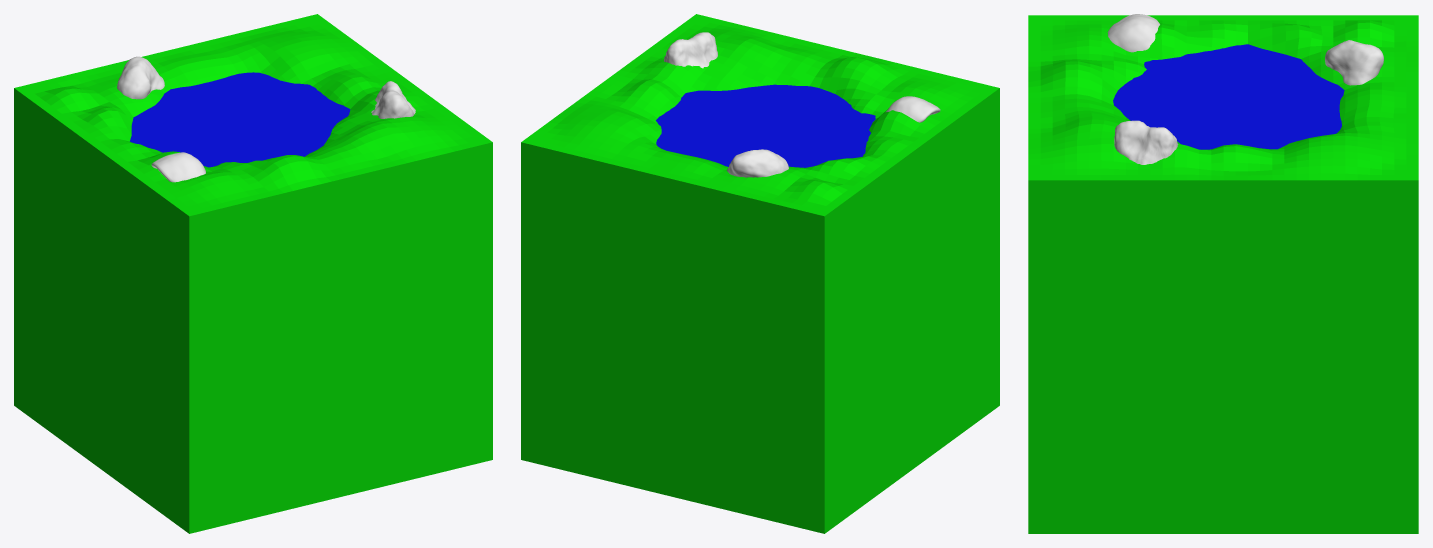
File: Grassblock3.fbx
3 renders of one model, left to right at view 1: azimuth 30°, elevation 25°; view 2: azimuth 150°, elevation 25°; view 3: azimuth 270°, elevation 25°, orthographic. The views are drawn at different scales.
Visible parts, largest first — view 1: Cube, Plane, rock.002, rock.001, rock; view 2: Cube, Plane, rock, rock.002, rock.001; view 3: Cube, Plane, rock, rock.002, rock.001.
Boxes of the visible parts, box(x1,y1,x2,y2) form: Cube: box(14, 14, 492, 533); Plane: box(130, 72, 350, 167); rock.002: box(117, 56, 164, 99); rock.001: box(151, 152, 205, 182); rock: box(371, 81, 415, 118); Cube: box(521, 14, 999, 533); Plane: box(656, 84, 875, 167); rock: box(664, 32, 717, 68); rock.002: box(727, 149, 788, 177); rock.001: box(885, 96, 940, 122); Cube: box(1028, 15, 1418, 533); Plane: box(1113, 44, 1344, 149); rock: box(1114, 120, 1178, 164); rock.002: box(1325, 40, 1383, 85); rock.001: box(1107, 14, 1159, 52).
Bounding box in the file's own units: 200 × 217 × 200.
